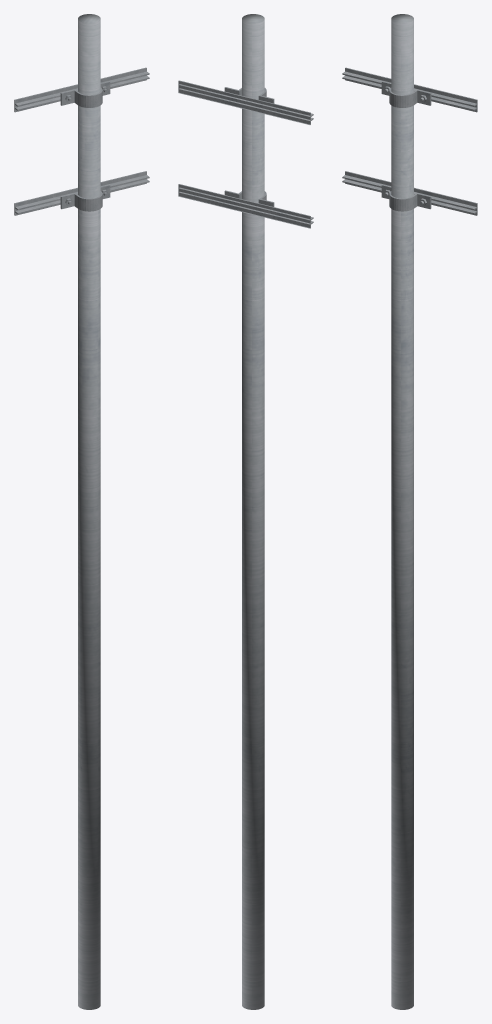
The model's file is Pole_v2__Stop_Signs_.fbx.
3 renders of one model, left to right at view 1: azimuth 30°, elevation 25°; view 2: azimuth 150°, elevation 25°; view 3: azimuth 330°, elevation 25°, orthographic.
Visible parts, largest first — view 1: Pole v2 (Stop Signs); view 2: Pole v2 (Stop Signs); view 3: Pole v2 (Stop Signs).
Part boxes in pixels (x1,y1,x2,y2): Pole v2 (Stop Signs): (14, 14, 149, 1009); Pole v2 (Stop Signs): (178, 14, 313, 1009); Pole v2 (Stop Signs): (342, 14, 477, 1009).
Size of the model in its own units: 0.0826 by 0.4 by 2.86.
